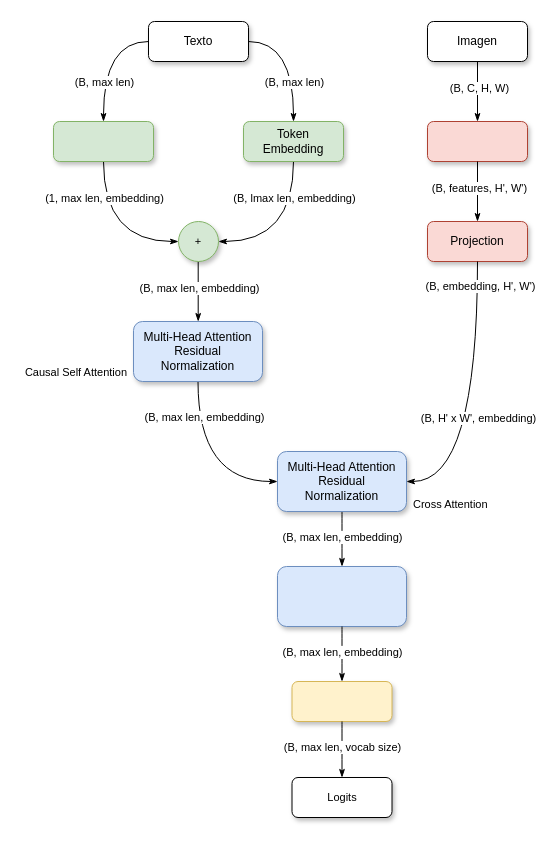
The diagram is 553 pixels wide and 842 high, and some of its shapes have lost their labels. The shapes that lost their labels are listed below. From the top down, each one's centre as x and y in pixels, then its label:
(104,142): Positional Embedding
(478,142): Resnet
(342,598): Feed Forward Residual Normalization
(342,702): Output
